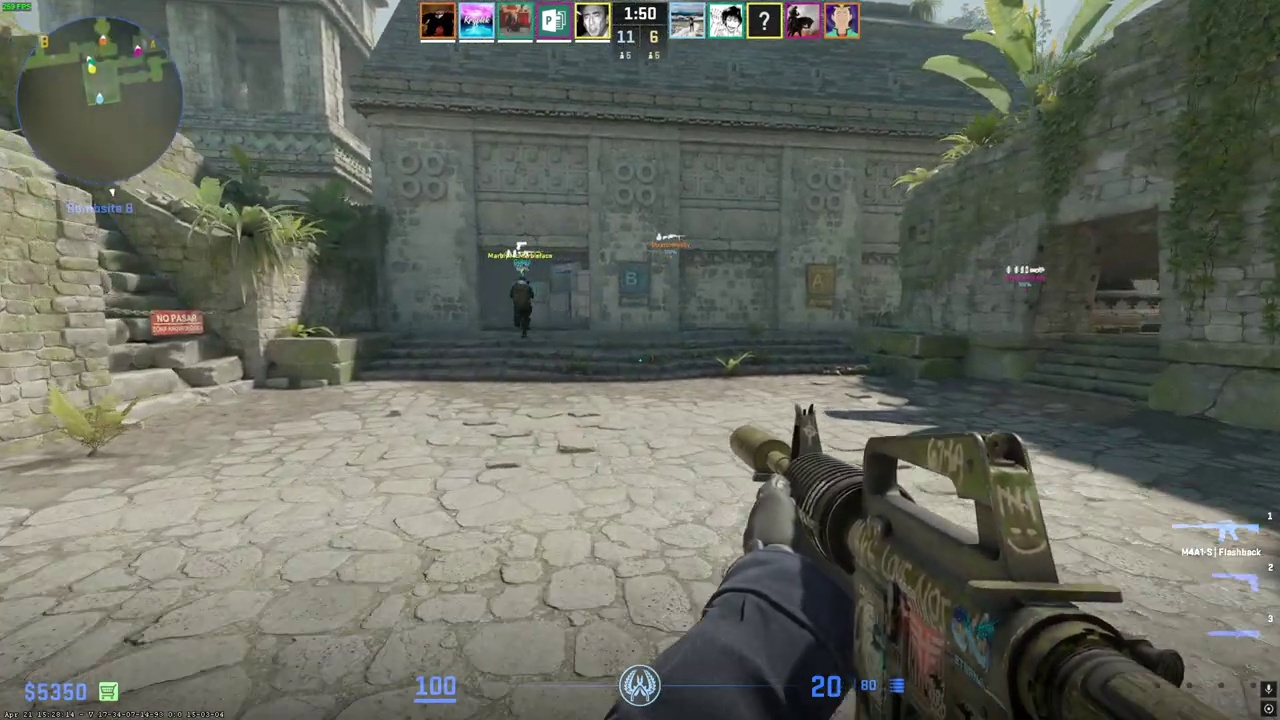CT: (510, 277, 534, 337)
